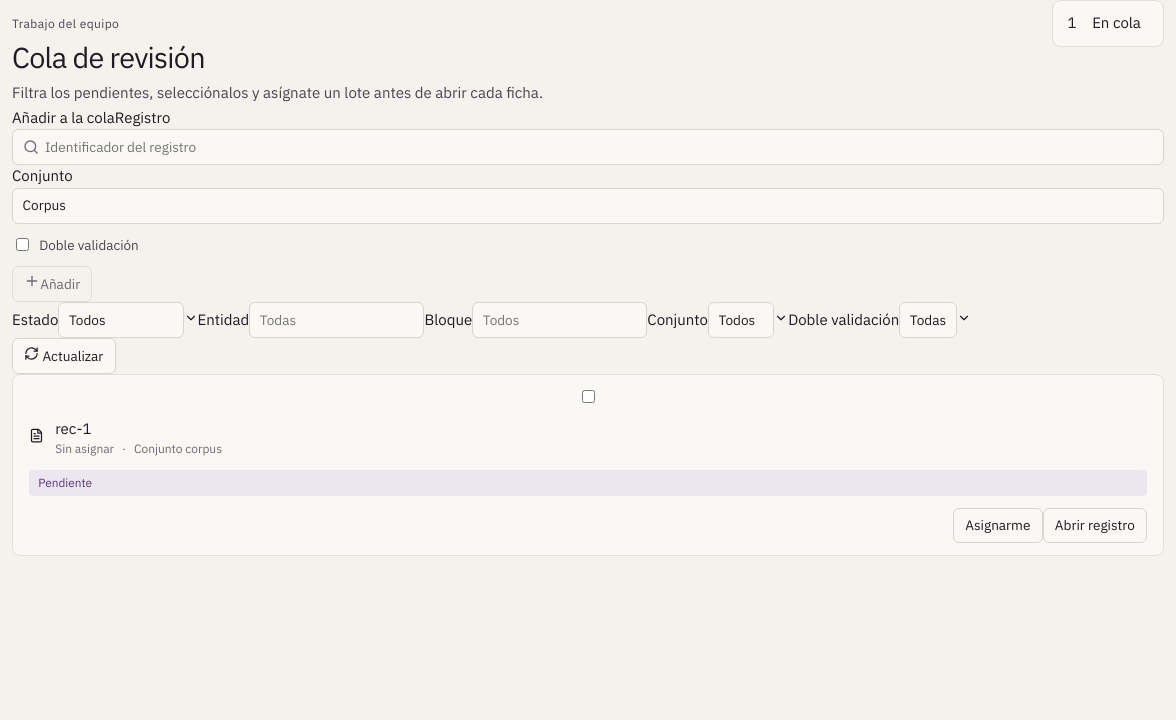
permite asignarse y muestra conflictos del servidor
Click the button "Asignarme" at (998, 525), box [953,508,1043,543]
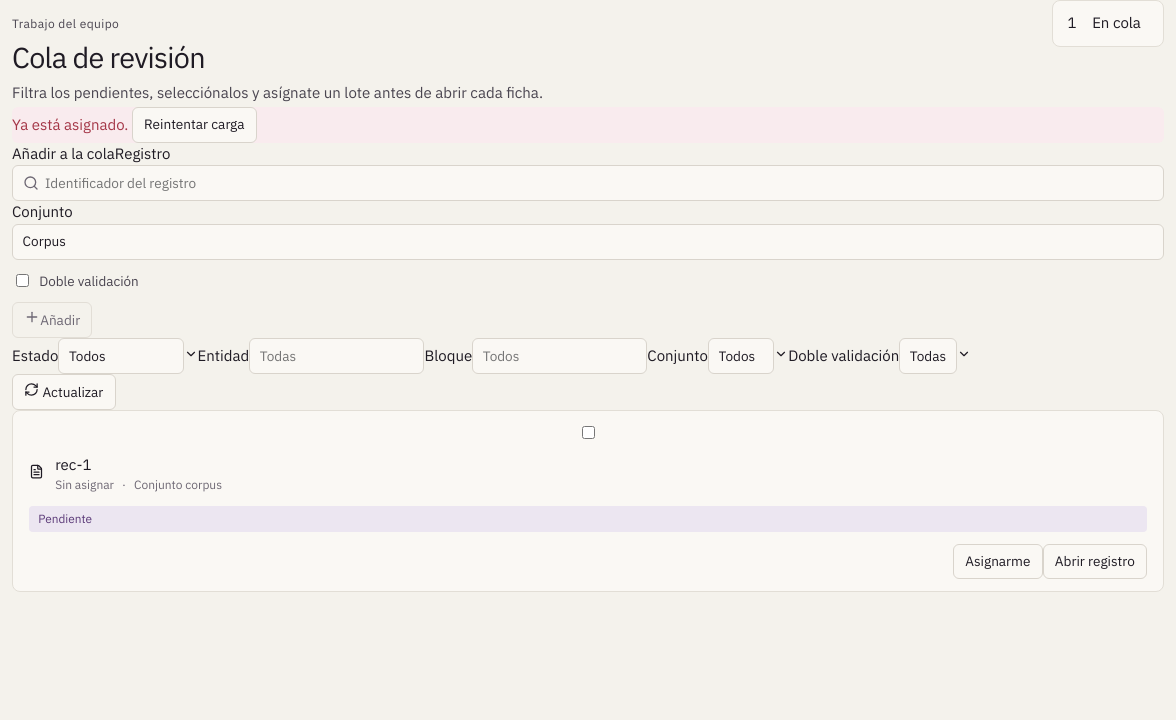
Result: the message shows "Ya está asignado." at [12,114,128,133]
